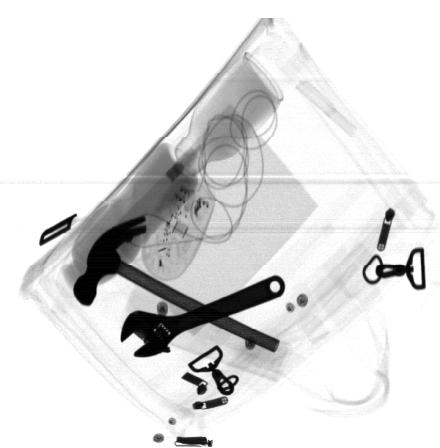Hammer: (73, 213, 280, 352)
Wrench: (121, 276, 284, 359)
